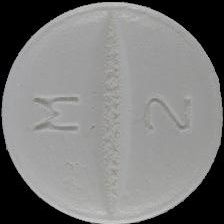0904-6323: (0, 0, 224, 224)
